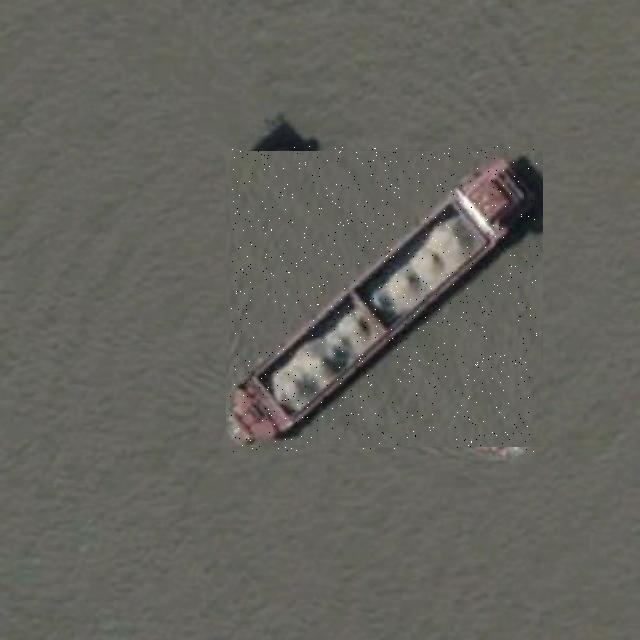boat: (230, 146, 538, 452)
